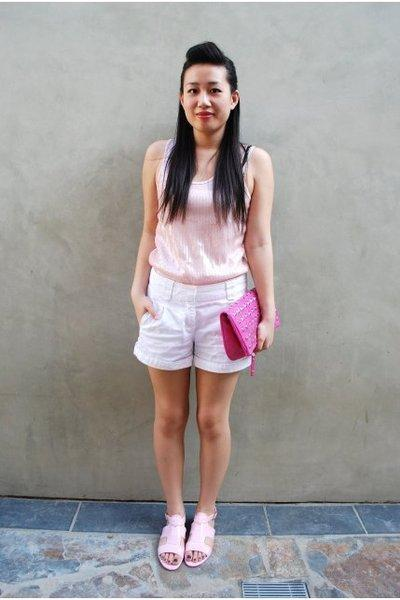bag: (220, 288, 275, 360)
shirt: (149, 176, 247, 323)
shoe: (161, 512, 229, 563)
shorts: (134, 295, 250, 372)
